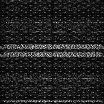lte: (1, 51, 104, 57), (1, 43, 104, 49), (1, 99, 104, 102)
